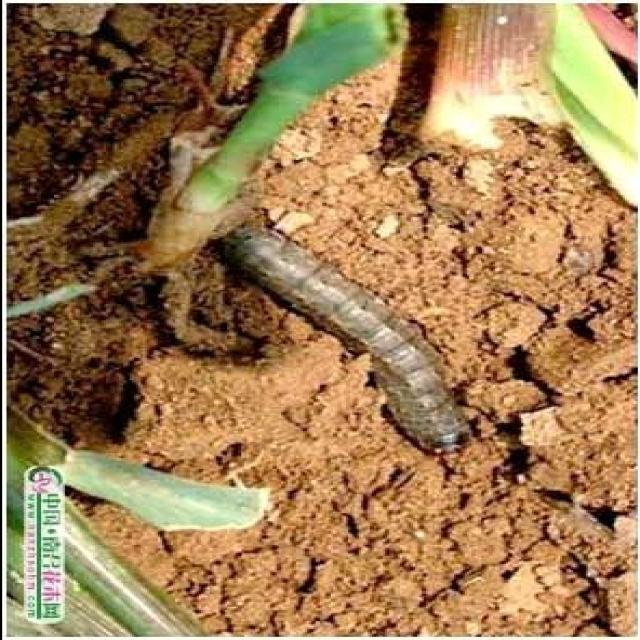black cutworm: (222, 228, 473, 455)
